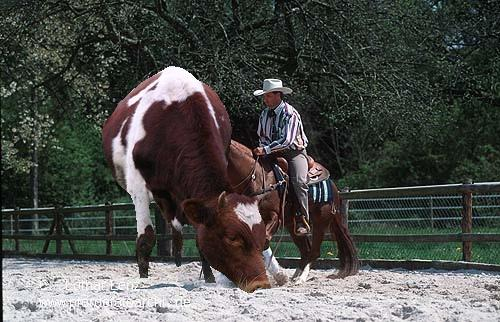tampered: (103, 67, 271, 293)
